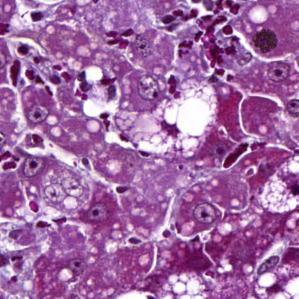ballooning: (154, 76, 219, 148), (253, 143, 299, 217)
